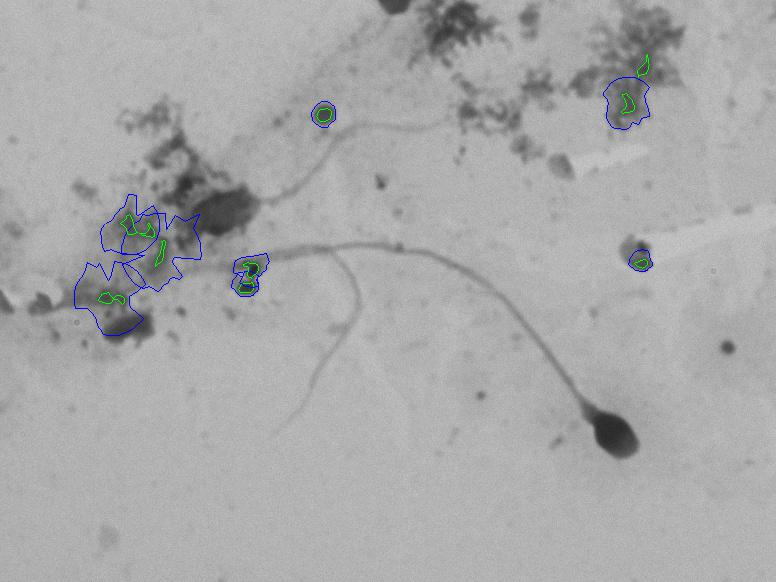Abnormal: (415, 308, 681, 515)
